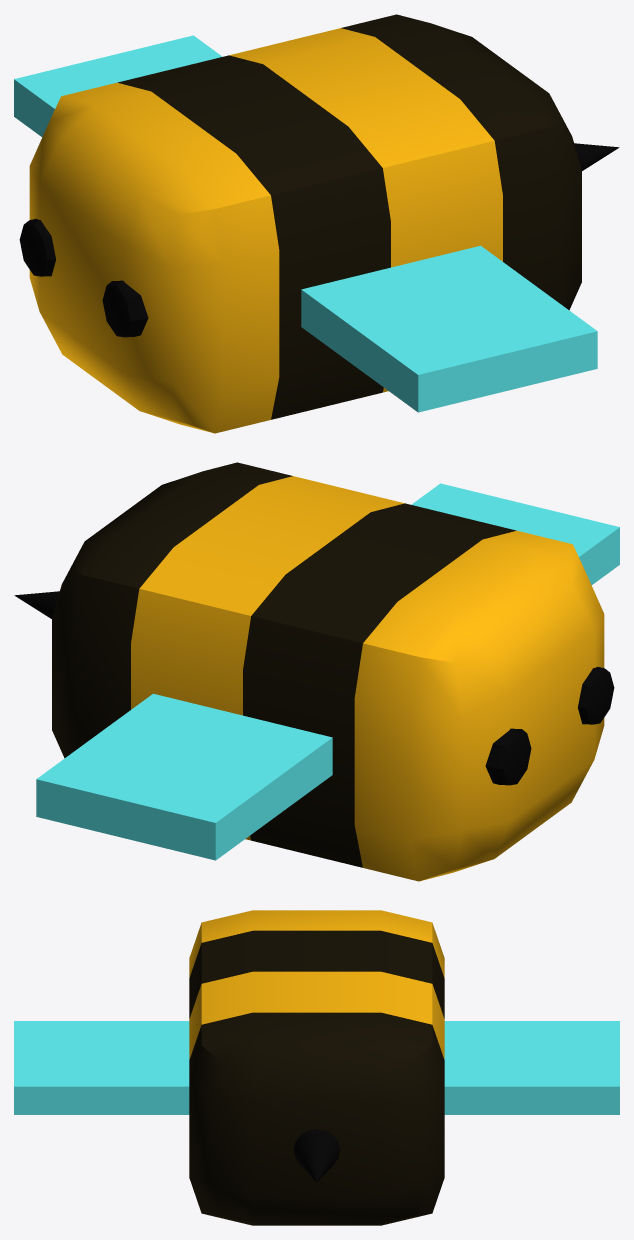
The model's file is bee.fbx.
3 renders of one model, top to bottom at view 1: azimuth 30°, elevation 25°; view 2: azimuth 150°, elevation 25°; view 3: azimuth 270°, elevation 25°, orthographic. The views are drawn at different scales.
Visible parts, largest first — view 1: Cube, Cube_1_2, Cube_1, Cylinder_1, Cylinder, Cone; view 2: Cube, Cube_1, Cube_1_2, Cylinder, Cylinder_1, Cone; view 3: Cube, Cube_1, Cube_1_2, Cone.
Boxes of the visible parts, left/top/right/bottom form: Cube: left=29, top=14, right=581, bottom=433; Cube_1_2: left=301, top=245, right=597, bottom=412; Cube_1: left=14, top=35, right=222, bottom=136; Cylinder_1: left=102, top=280, right=148, bottom=337; Cylinder: left=19, top=219, right=55, bottom=276; Cone: left=574, top=143, right=619, bottom=170; Cube: left=52, top=462, right=604, bottom=881; Cube_1: left=36, top=693, right=332, bottom=860; Cube_1_2: left=411, top=483, right=619, bottom=584; Cylinder: left=485, top=728, right=531, bottom=785; Cylinder_1: left=578, top=667, right=614, bottom=724; Cone: left=14, top=591, right=59, bottom=618; Cube: left=189, top=910, right=444, bottom=1225; Cube_1: left=444, top=1021, right=619, bottom=1114; Cube_1_2: left=14, top=1021, right=189, bottom=1114; Cone: left=293, top=1129, right=340, bottom=1182.
Size of the model in its own units: 30.5 by 13.69 by 39.
